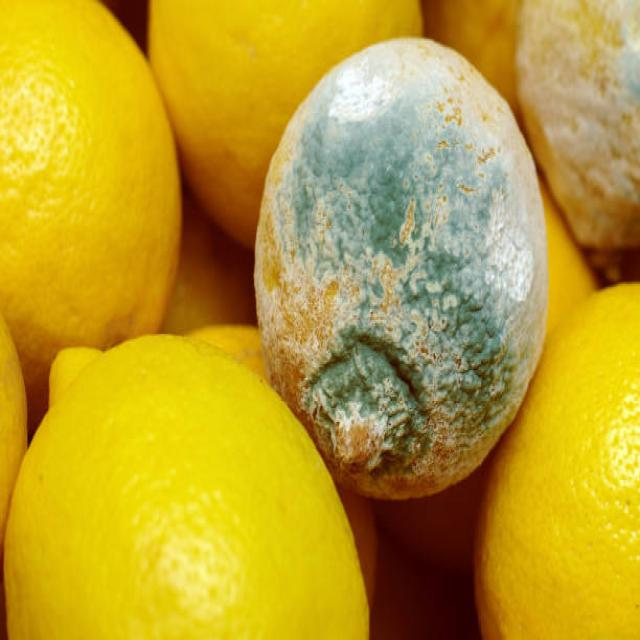Ripe: (5, 335, 369, 640)
Rotten: (255, 37, 548, 501)
